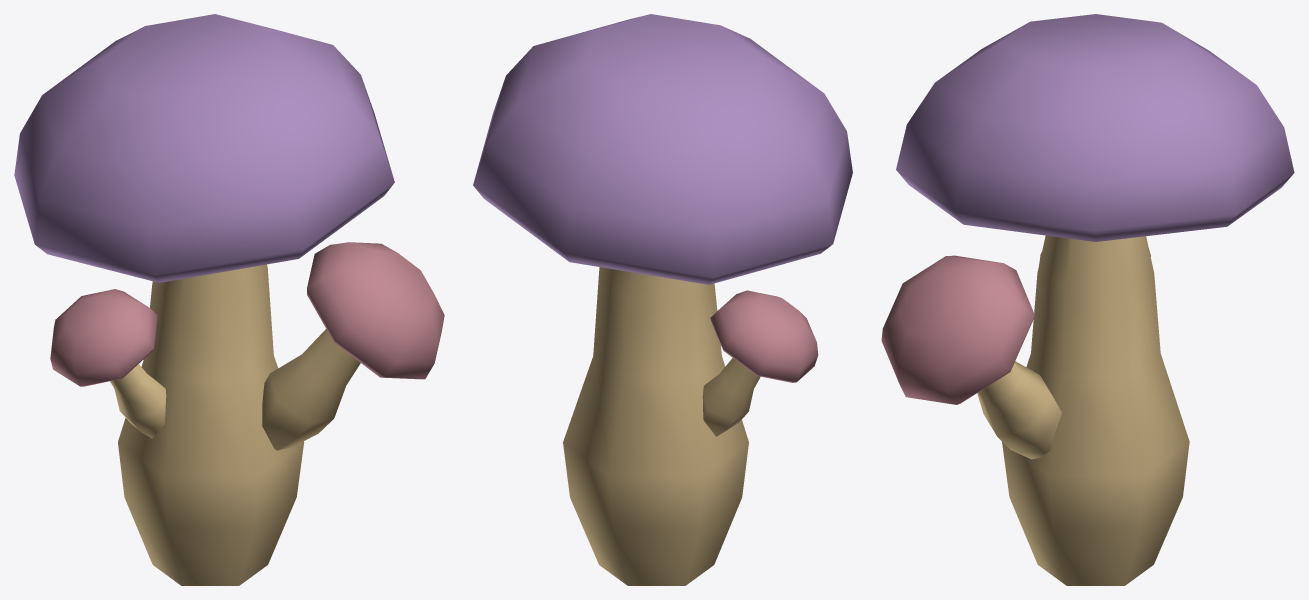
Rendered from Mushrooms3.fbx.
3 views of the same model, side by side, from view 1: azimuth 30°, elevation 25°; view 2: azimuth 150°, elevation 25°; view 3: azimuth 270°, elevation 25° (orthographic).
Parts seen in each view (by area): view 1: Circle.011; view 2: Circle.011; view 3: Circle.011.
Boxes of the visible parts, x1,y1,x2,y2 form: Circle.011: (14, 14, 444, 585); Circle.011: (473, 14, 852, 585); Circle.011: (881, 14, 1294, 585).
Bounding box in the file's own units: 0.9051 × 1.32 × 0.9445.
